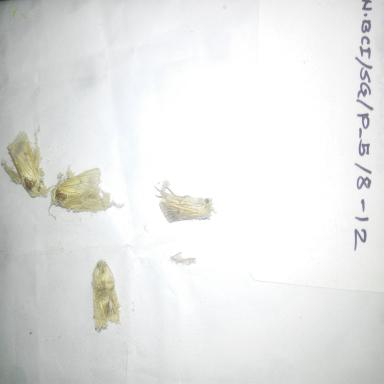abw: (47, 162, 117, 223), (1, 124, 48, 203), (86, 255, 126, 342), (152, 179, 218, 227)
